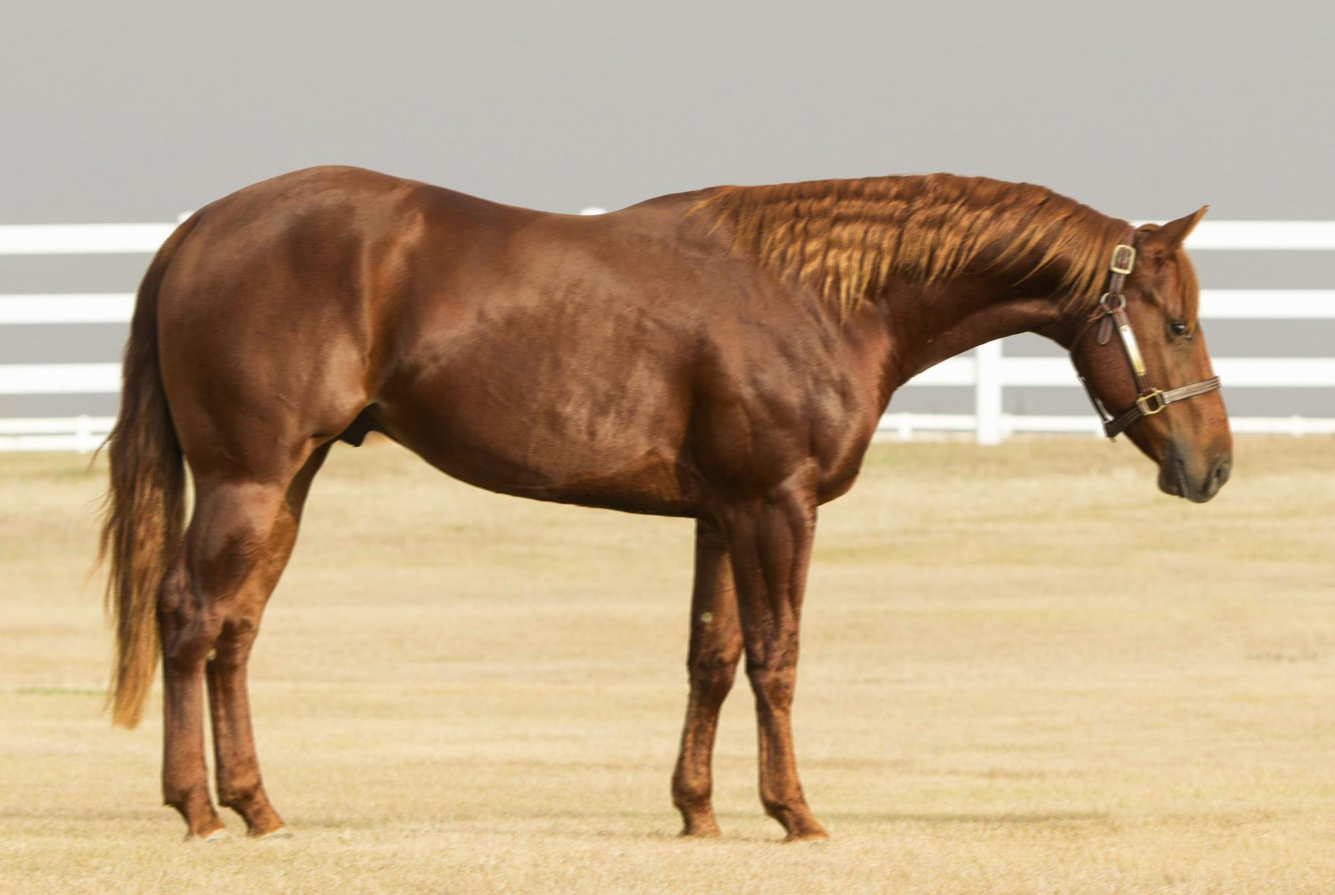horse: (77, 151, 1243, 861)
